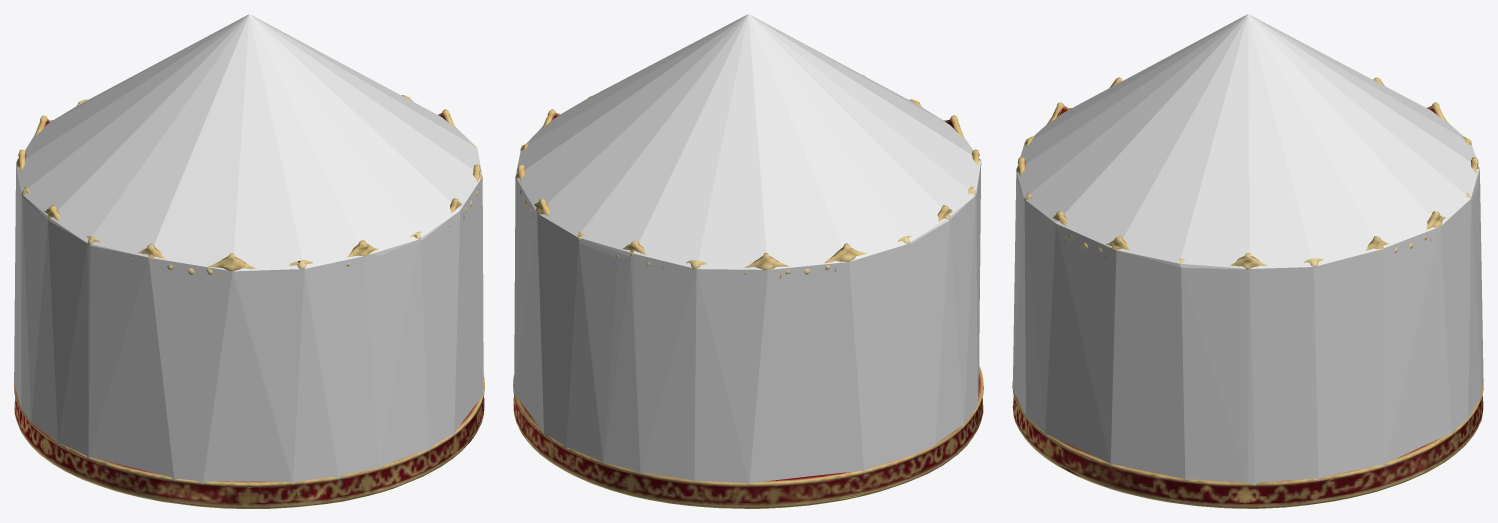
File: CUR_Carousel.fbx
3 views of the same model, side by side, from view 1: azimuth 30°, elevation 25°; view 2: azimuth 150°, elevation 25°; view 3: azimuth 270°, elevation 25° (orthographic).
Parts seen in each view (by area): view 1: COL_Carousel, CarouselBody; view 2: COL_Carousel, CarouselBody; view 3: COL_Carousel, CarouselBody.
Part boxes in pixels (x1,y1,x2,y2): COL_Carousel: [14, 14, 483, 483]; CarouselBody: [14, 95, 484, 508]; COL_Carousel: [514, 14, 981, 484]; CarouselBody: [513, 75, 983, 508]; COL_Carousel: [1012, 14, 1483, 485]; CarouselBody: [1012, 77, 1483, 508].
Size of the model in its own units: 29.58 by 27.49 by 29.59.
Materials: 2 (2 with a texture image).
